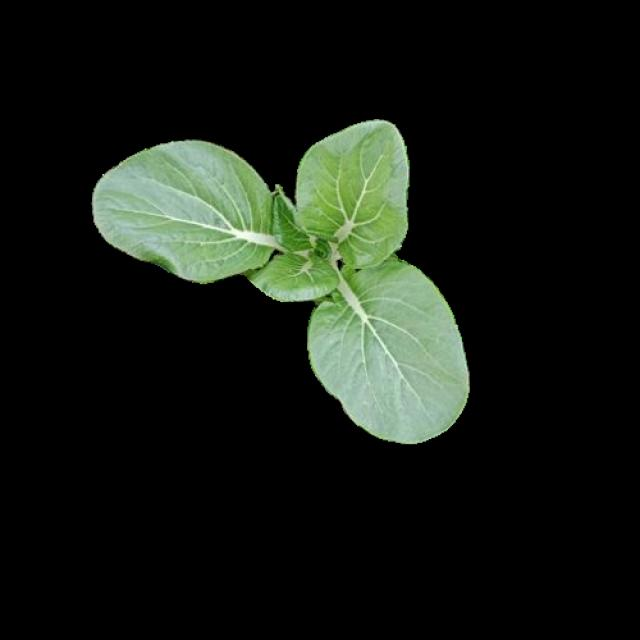healthy: (94, 124, 473, 440)
not-mature: (92, 122, 471, 435)
